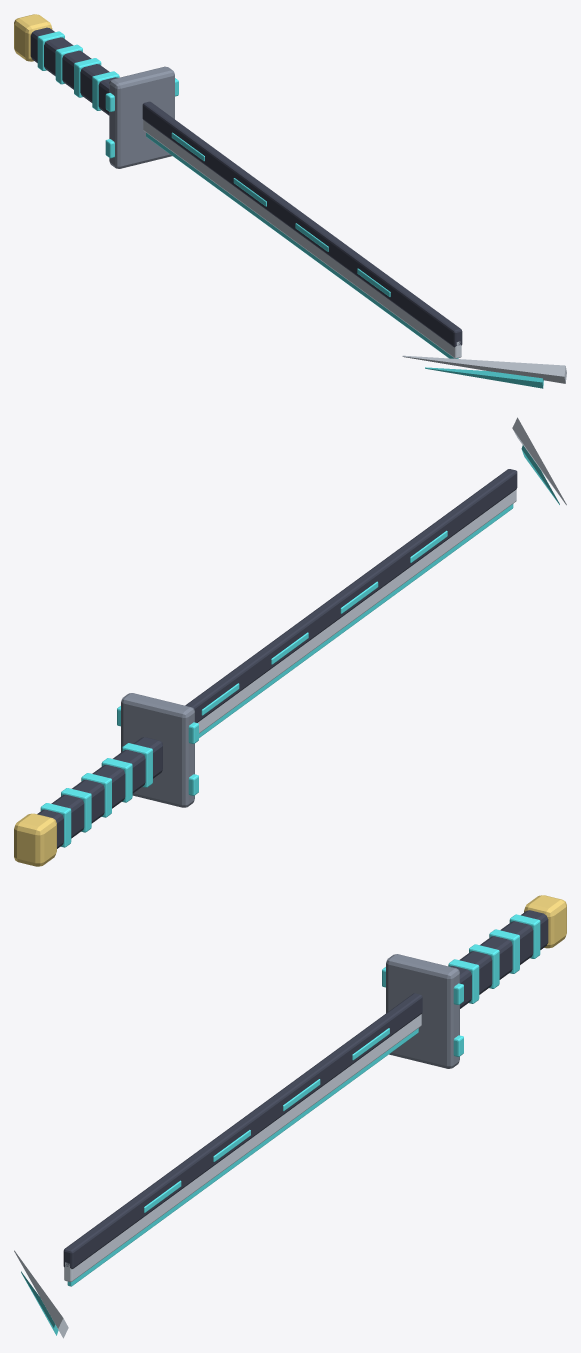
File: Cyber_Katana.fbx
The picture shows the model from 3 angles, top to bottom: view 1: azimuth 30°, elevation 25°; view 2: azimuth 150°, elevation 25°; view 3: azimuth 330°, elevation 25°; orthographic projection. The views are drawn at different scales.
Parts seen in each view (by area): view 1: Katana_Spine, Katana_Tsuba_Main, Katana_Body, Katana_Grip, Katana_Tip_Steel, Katana_NeonEdge, Katana_Pommel, Katana_Tip_Neon; view 2: Katana_Spine, Katana_Tsuba_Main, Katana_Body, Katana_Grip, Katana_Pommel, Katana_NeonEdge, Katana_Tip_Steel; view 3: Katana_Spine, Katana_Tsuba_Main, Katana_Body, Katana_Grip, Katana_NeonEdge, Katana_Pommel, Katana_Tip_Steel.
Part boxes in pixels (box(x1,y1,x2,y2)): Katana_Spine: box(142, 101, 462, 347); Katana_Tsuba_Main: box(109, 66, 174, 168); Katana_Body: box(143, 120, 461, 358); Katana_Grip: box(30, 27, 117, 115); Katana_Tip_Steel: box(402, 355, 566, 383); Katana_NeonEdge: box(146, 133, 458, 358); Katana_Pommel: box(14, 14, 52, 61); Katana_Tip_Neon: box(425, 367, 543, 388); Katana_Spine: box(185, 469, 517, 722); Katana_Tsuba_Main: box(121, 693, 194, 807); Katana_Body: box(198, 489, 516, 733); Katana_Grip: box(37, 737, 162, 848); Katana_Pommel: box(14, 813, 56, 866); Katana_NeonEdge: box(199, 504, 513, 737); Katana_Tip_Steel: box(512, 417, 566, 505); Katana_Spine: box(63, 993, 422, 1268); Katana_Tsuba_Main: box(386, 954, 459, 1068); Katana_Body: box(64, 1014, 421, 1281); Katana_Grip: box(450, 910, 548, 1008); Katana_NeonEdge: box(67, 1028, 418, 1286); Katana_Pommel: box(524, 895, 566, 948); Katana_Tip_Steel: box(14, 1250, 68, 1338).
Size of the model in its own units: 0.1691 by 0.13 by 1.35.
